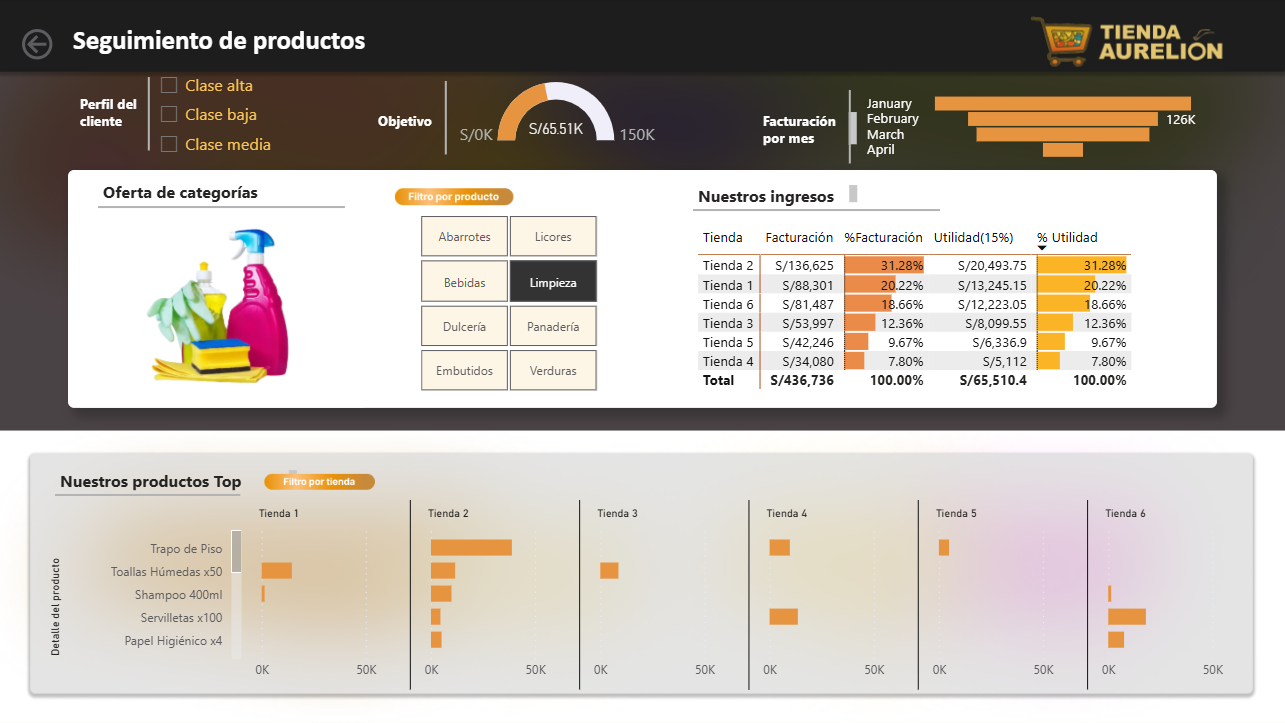

This screenshot's page, from the dashboard's own definition file:
{"tool":"powerbi","page":{"name":"venta_surtido","canvas":[1280,720],"ordinal":0},"visuals":[{"type":"funnel","fields":{"Category":["RegistroVentas.fecha_alta.Variation.Date Hierarchy.Month","RegistroVentas.fecha_alta.Variation.Date Hierarchy.Day","Cliente.medio_pago"],"Y":["Sum(RegistroVentas.importe)"]},"box":[778.7,72.7,402.8,128.7],"z":0},{"type":"shape","box":[20.1,201.4,1215.1,236.1],"z":1000},{"type":"slicer","fields":{"Values":["Categoria.categoria"]},"box":[397.2,226,221.5,190.2],"z":2000},{"type":"ImageGrid_FC5183B9_926C_45E0_B5F7_0CE9EAF1DA9B","fields":{"ImageURL":["Categoria.img_url"],"Value":["CountNonNull(Categoria.categoria)"]},"box":[78.3,212.6,327.8,217.1],"z":3000},{"type":"slicer","fields":{"Values":["Tiendas.zona_clase"]},"box":[78,113.7,273.7,71.4],"z":4000},{"type":"pivotTable","fields":{"Rows":["Tiendas.nombre_Tienda"],"Values":["Sum(RegistroVentas.importe)","Table.Total de facturación","Table.Utilidad","Divide(Table.Utilidad, ScopedEval(Table.Utilidad, []))"]},"box":[694.8,233.8,515.8,182.4],"z":5000},{"type":"clusteredBarChart","fields":{"Category":["RegistroVentas.nombre_producto"],"Y":["Sum(RegistroVentas.importe)"],"Rows":["Tiendas.nombre_Tienda"]},"box":[35.8,450.9,1207.3,246.2],"z":6000},{"type":"gauge","fields":{"Y":["Table.Utilidad"],"MaxValue":["Table.Limite"]},"box":[455.4,90.6,251.7,101.8],"z":7000},{"type":"textbox","box":[99.9,22.8,432.1,67.3],"z":8000},{"type":"shape","box":[52.1,40.2,1185.5,49.9],"z":9000},{"type":"shape","box":[605.3,212.6,77.2,212.6],"z":10000},{"type":"shape","box":[352.4,89.5,40.3,101.8],"z":11000}]}

Visuals, with their boxes in screenshot pixels (x1, y1, x2, y2), scaled from the page's 1280x720 canvas onto the 1285x723 screenshot:
funnel - RegistroVentas.fecha_alta.Variation.Date Hierarchy.Month x RegistroVentas.fecha_alta.Variation.Date Hierarchy.Day: BBox(782, 73, 1186, 202)
shape: BBox(20, 202, 1240, 439)
slicer - Categoria.categoria: BBox(399, 227, 621, 418)
ImageGrid_FC5183B9_926C_45E0_B5F7_0CE9EAF1DA9B - Categoria.img_url x CountNonNull(Categoria.categoria): BBox(79, 213, 408, 431)
slicer - Tiendas.zona_clase: BBox(78, 114, 353, 186)
pivotTable - Tiendas.nombre_Tienda x Sum(RegistroVentas.importe): BBox(698, 235, 1215, 418)
clusteredBarChart - RegistroVentas.nombre_producto x Sum(RegistroVentas.importe): BBox(36, 453, 1248, 700)
gauge - Table.Utilidad x Table.Limite: BBox(457, 91, 710, 193)
textbox: BBox(100, 23, 534, 90)
shape: BBox(52, 40, 1242, 90)
shape: BBox(608, 213, 685, 427)
shape: BBox(354, 90, 394, 192)
